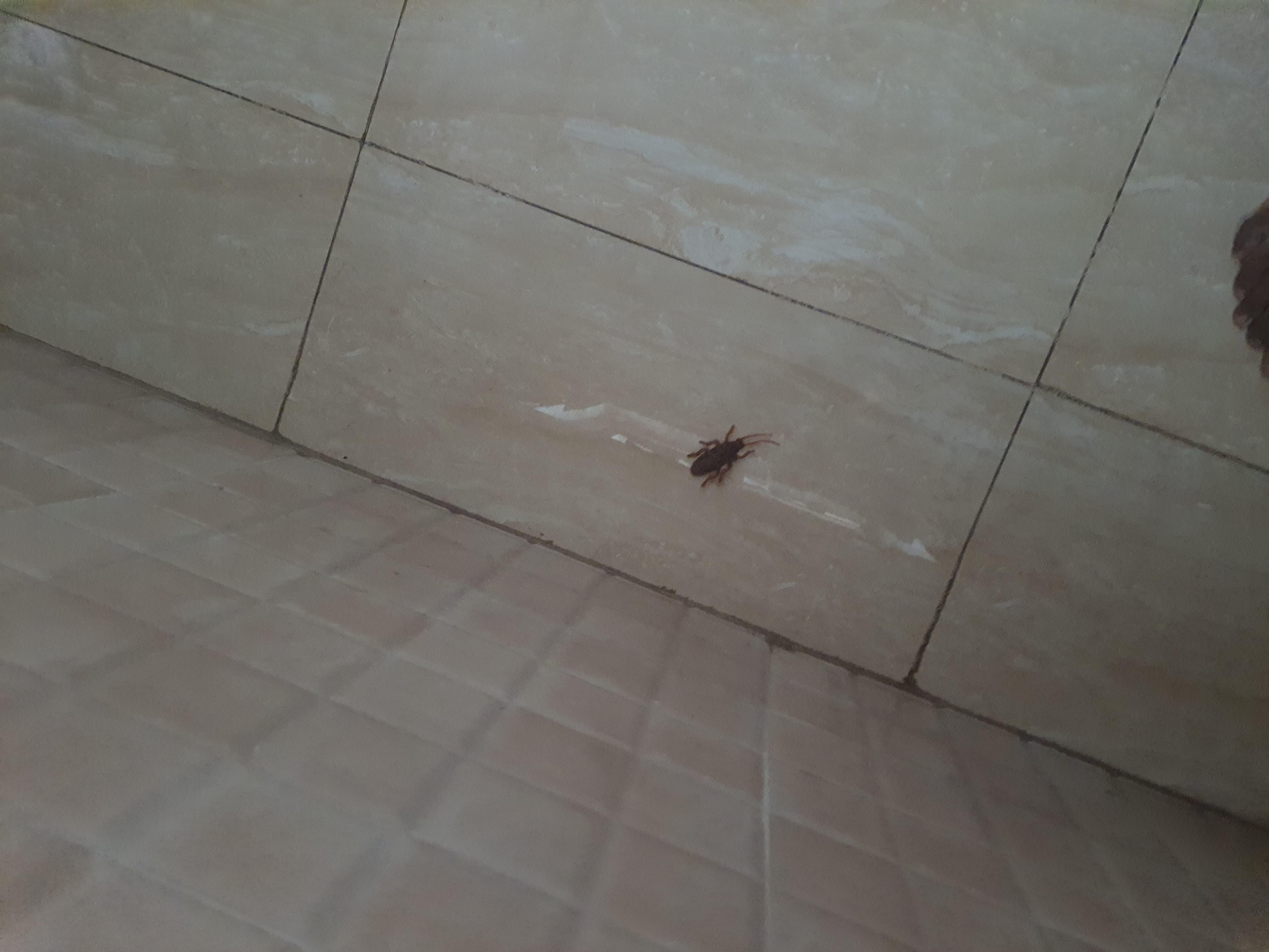cockroach: (605, 503, 710, 577)
